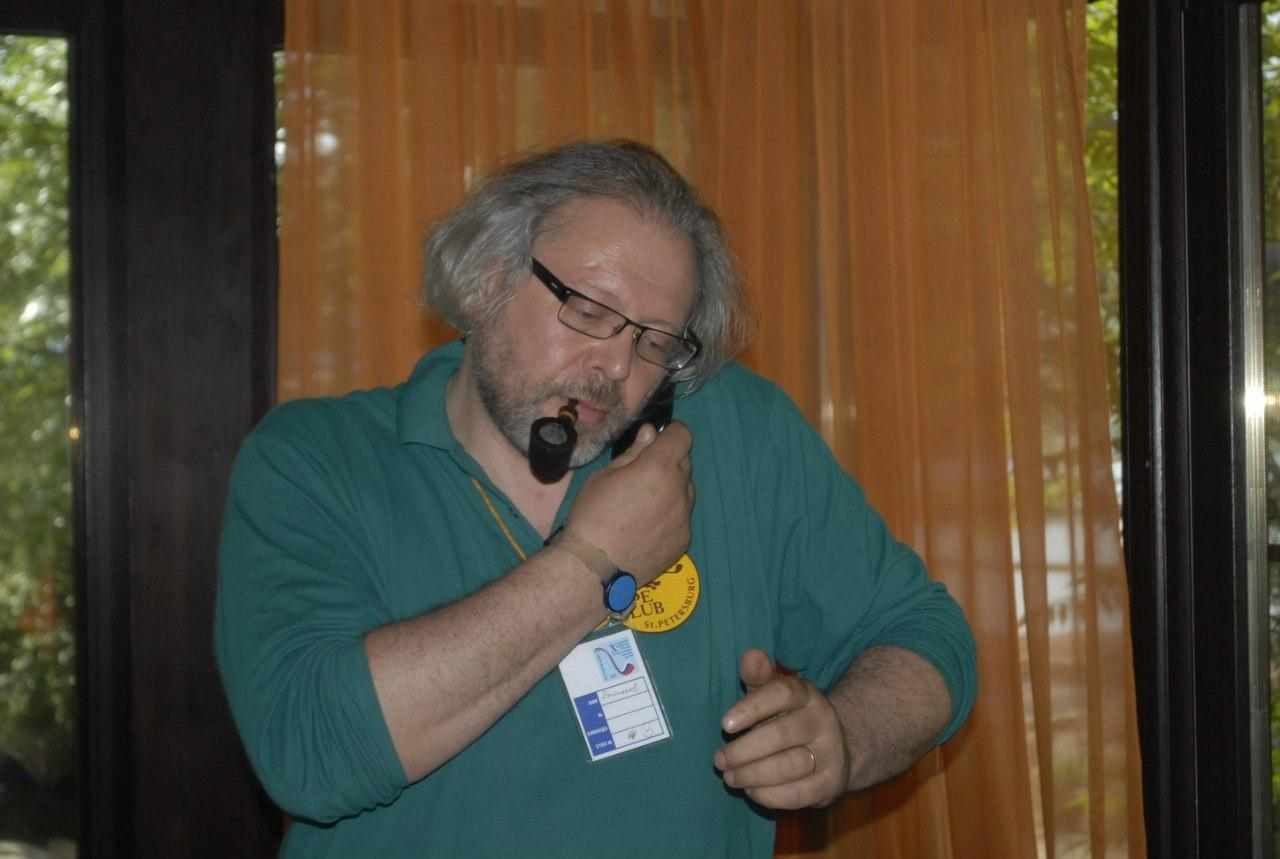trubka: (526, 399, 578, 484)
